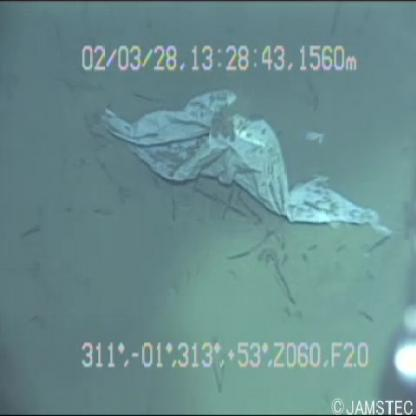Rác: (90, 78, 394, 248)
